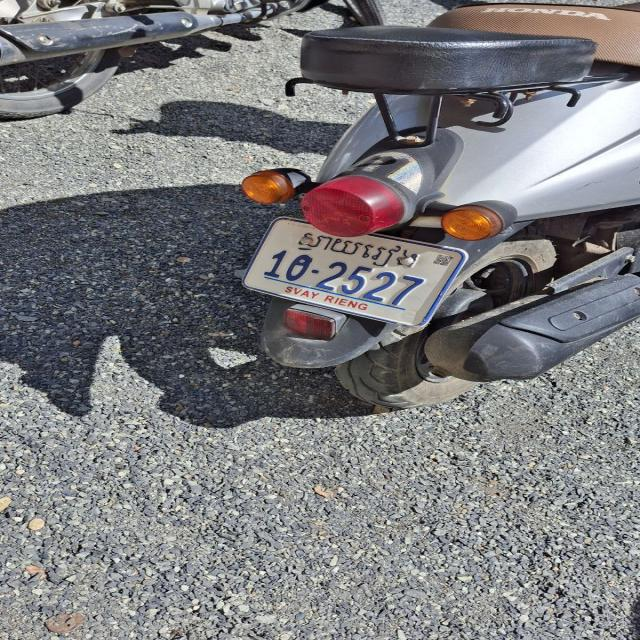Yolov11kh: (278, 221, 442, 275)
